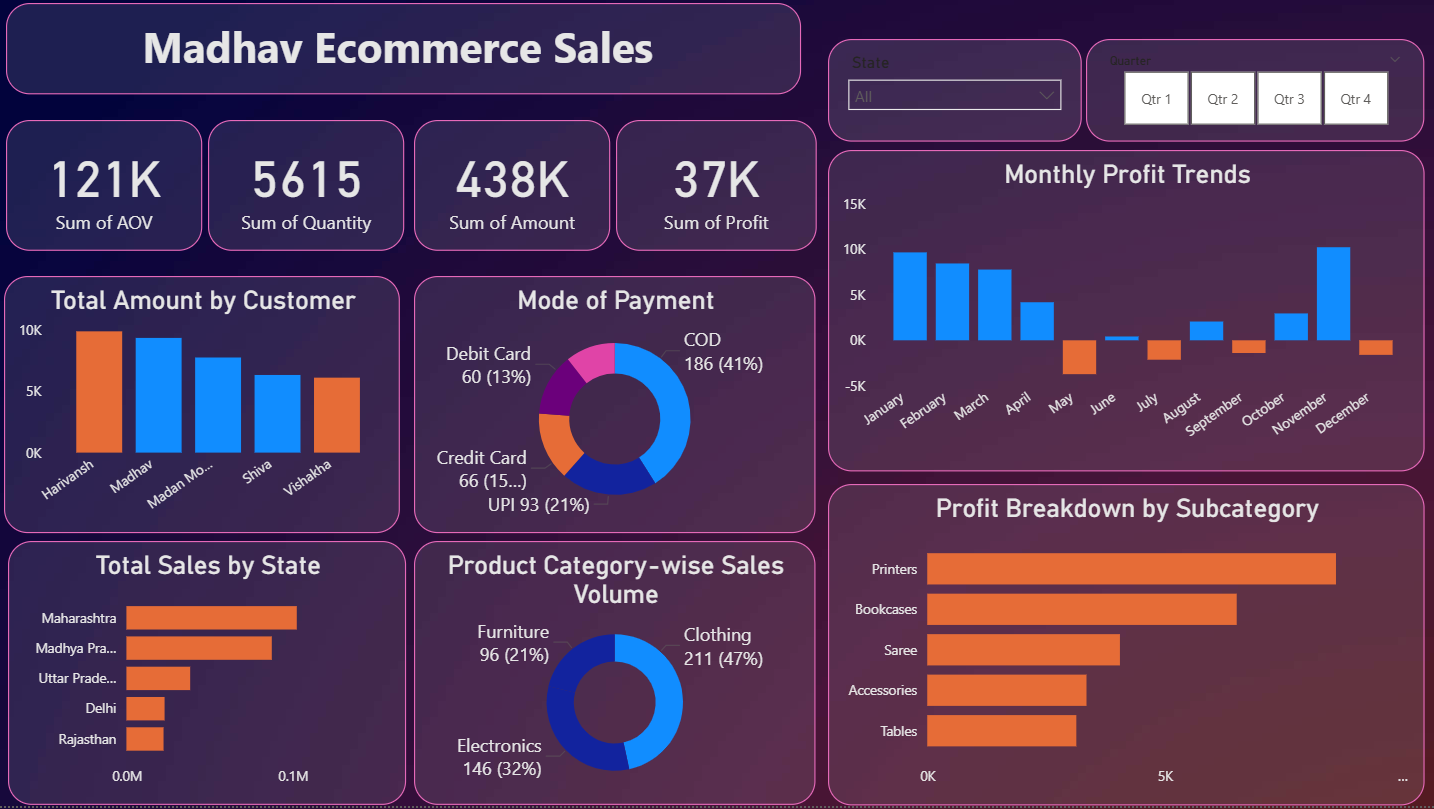

The page's visual inventory and layout, read from the dashboard file:
{"tool":"powerbi","page":{"name":"Page 1","canvas":[1280,720],"ordinal":0},"visuals":[{"type":"textbox","box":[9.7,7.8,705.2,80.7],"z":0},{"type":"clusteredColumnChart","title":"Monthly Profit Trends","fields":{"Y":["Details.Profit"],"Category":["Orders.Order Date.Variation.Date Hierarchy.Month"]},"box":[738.2,138.1,529.1,285],"z":1000},{"type":"barChart","title":"Profit Breakdown by Subcategory","fields":{"Y":["Details.Profit"],"Category":["Details.Sub-Category"]},"box":[738.2,434.8,529.1,285],"z":2000},{"type":"donutChart","title":"Product Category-wise Sales Volume ","fields":{"Y":["Details.Quantity"],"Category":["Details.Category"]},"box":[371.6,485.3,356,234.4],"z":3000},{"type":"donutChart","title":"Mode of Payment","fields":{"Y":["Details.Quantity"],"Category":["Details.PaymentMode"]},"box":[371.6,250,356,227.6],"z":4000},{"type":"card","fields":{"Values":["Details.Amount"]},"box":[371.6,111.9,174.1,115.7],"z":5000},{"type":"card","fields":{"Values":["Details.Profit"]},"box":[550.5,111.9,178,115.7],"z":6000},{"type":"card","fields":{"Values":["Details.Quantity"]},"box":[188.7,111.9,174.1,115.7],"z":7000},{"type":"card","fields":{"Values":["Details.AOV"]},"box":[9.7,111.9,174.1,115.7],"z":8000},{"type":"barChart","title":"Total Sales by State","fields":{"Y":["Details.Amount"],"Category":["Orders.State"]},"box":[11.7,485.3,353.1,234.4],"z":9000},{"type":"clusteredColumnChart","title":"Total Amount by Customer","fields":{"Y":["Details.Amount"],"Category":["Orders.CustomerName"]},"box":[7.8,250,351.1,227.6],"z":10000},{"type":"slicer","fields":{"Values":["Orders.Order Date.Variation.Date Hierarchy.Quarter"]},"box":[967.8,39.9,299.6,91.4],"z":11000},{"type":"actionButton","box":[0,0,100,40],"z":12000},{"type":"slicer","fields":{"Values":["Orders.State"]},"box":[738.2,39.9,224.7,91.4],"z":13000}]}

Visuals, with their boxes in screenshot pixels (x1, y1, x2, y2), scaled from the page's 1280x720 canvas onto the 1434x809 screenshot:
textbox: (11,9,801,99)
"Monthly Profit Trends" clusteredColumnChart: (827,155,1420,475)
"Profit Breakdown by Subcategory" barChart: (827,489,1420,808)
"Product Category-wise Sales Volume " donutChart: (416,545,815,808)
"Mode of Payment" donutChart: (416,281,815,537)
card - Details.Amount: (416,126,611,256)
card - Details.Profit: (617,126,816,256)
card - Details.Quantity: (211,126,406,256)
card - Details.AOV: (11,126,206,256)
"Total Sales by State" barChart: (13,545,409,808)
"Total Amount by Customer" clusteredColumnChart: (9,281,402,537)
slicer - Orders.Order Date.Variation.Date Hierarchy.Quarter: (1084,45,1420,148)
actionButton: (0,0,112,45)
slicer - Orders.State: (827,45,1079,148)
